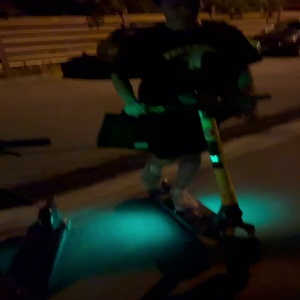human on a scooter: (93, 2, 271, 276)
